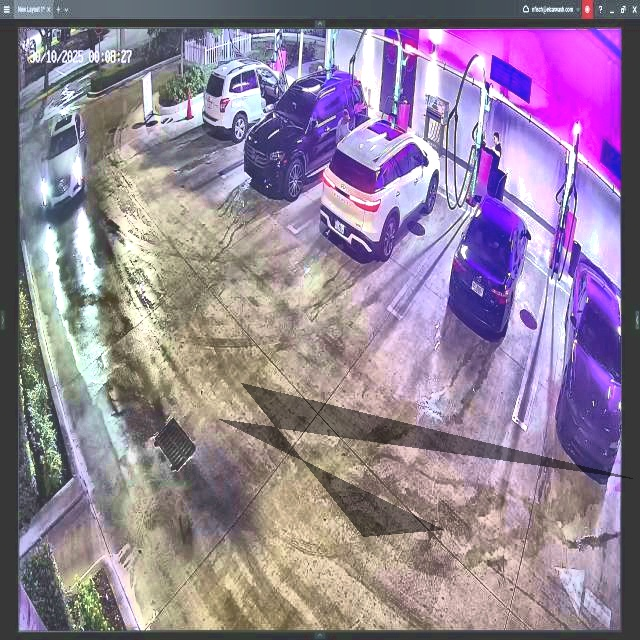Car: (321, 113, 440, 261), (244, 67, 368, 196), (449, 193, 531, 337)
